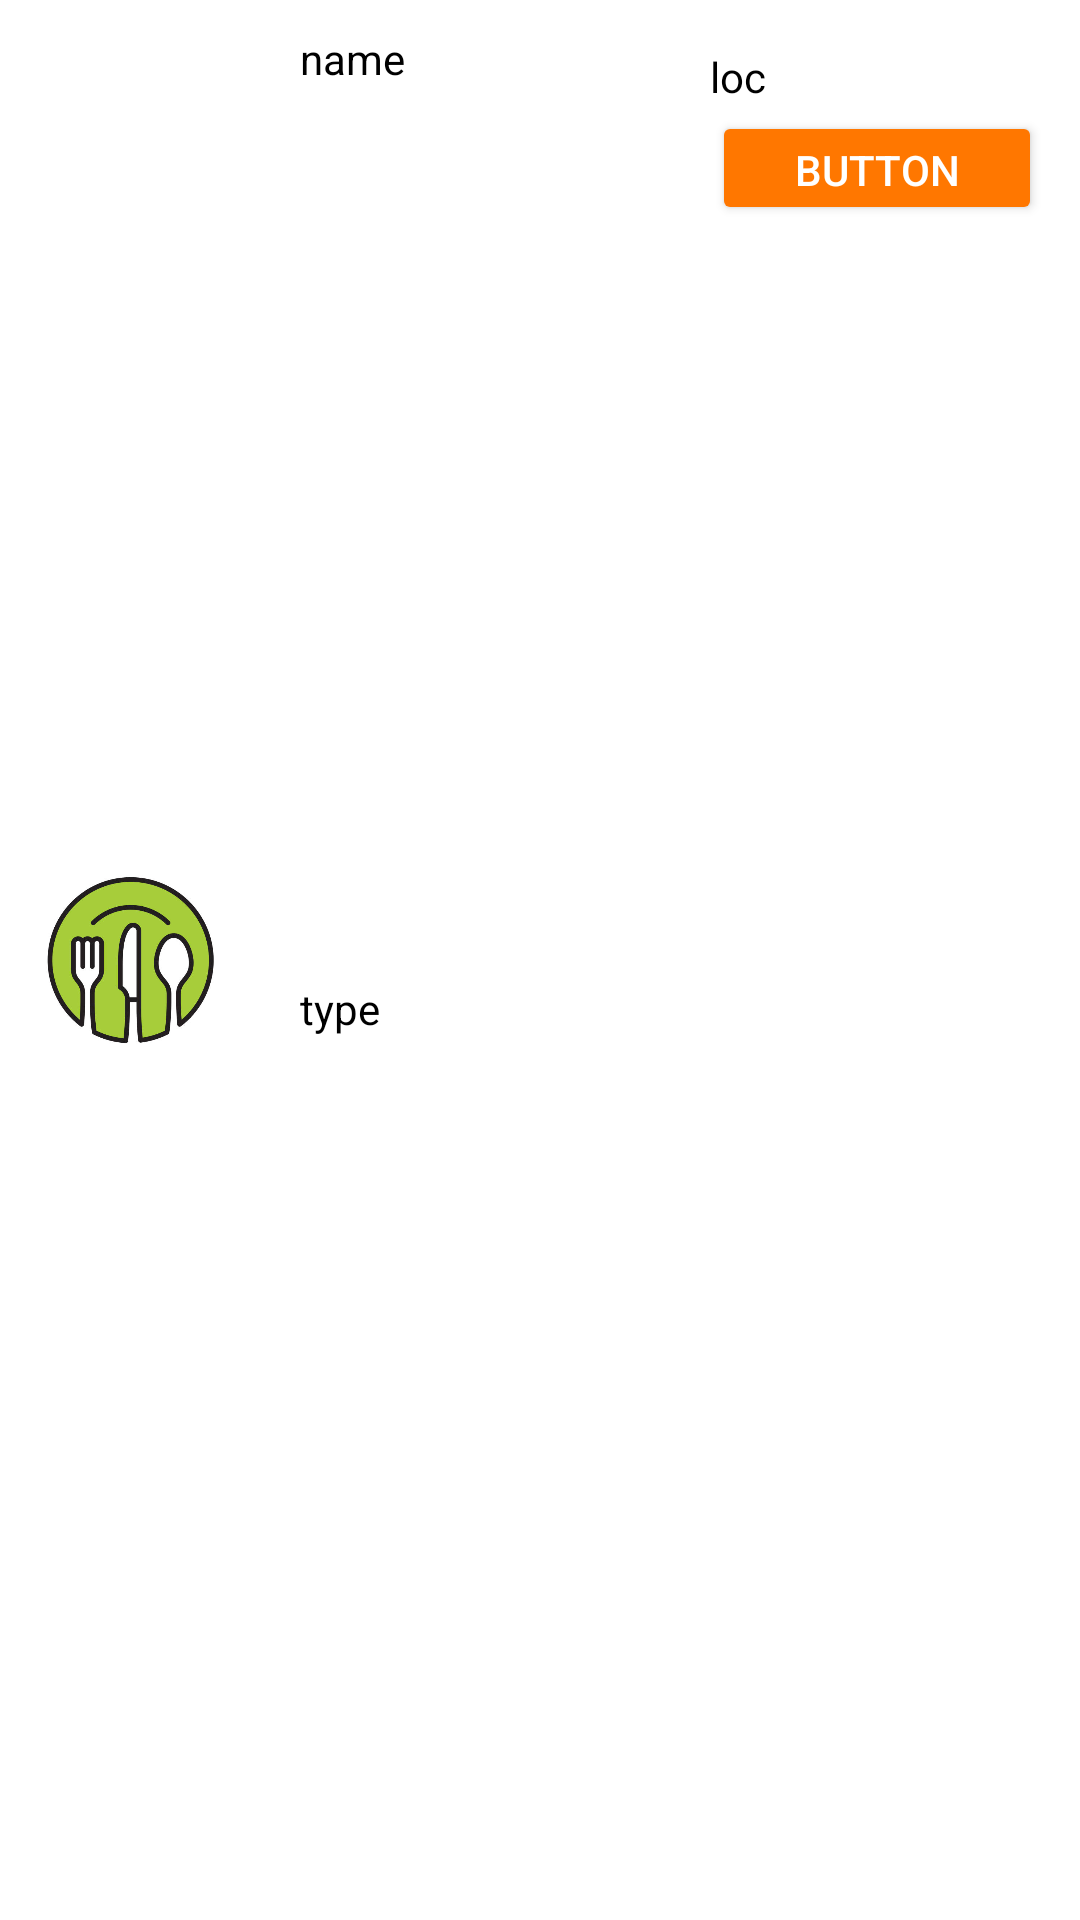

Locate icon controls on the screen. Image size 1080px x 1920px, boxes as Rect(x1, y1, x2, y2).
resicon: Rect(47, 877, 214, 1043)
